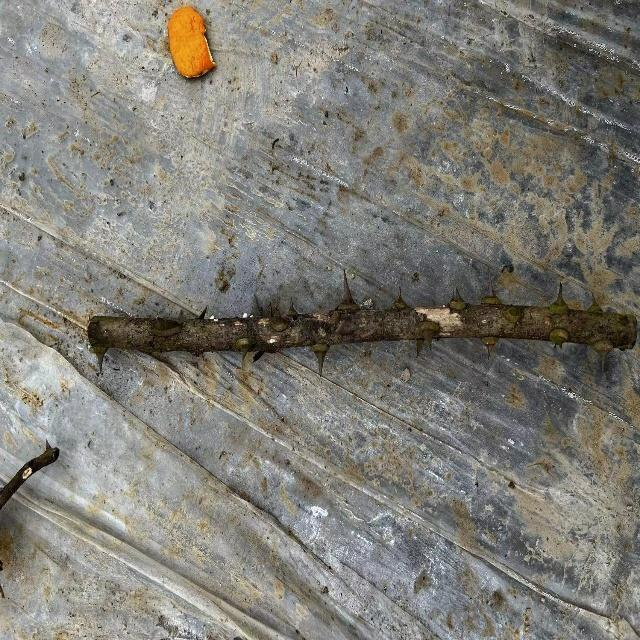branch: (87, 303, 639, 358)
